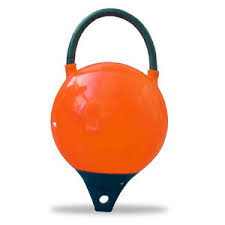buoy: (52, 63, 169, 177)
